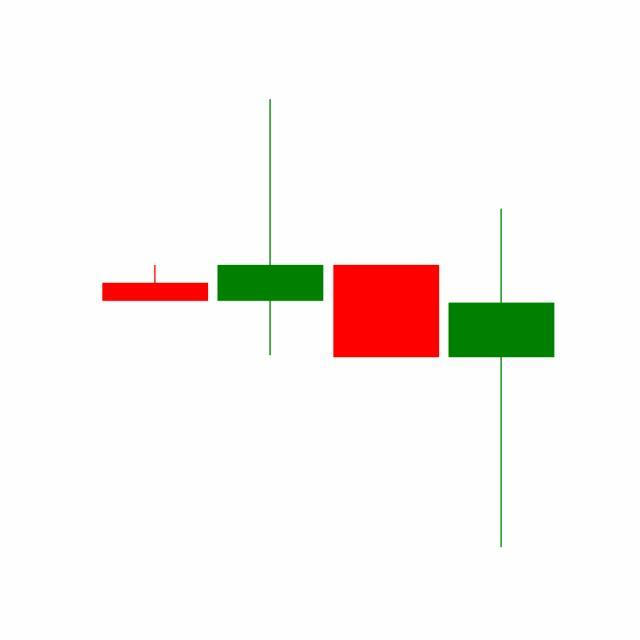Spinning Top: (444, 206, 560, 552)
